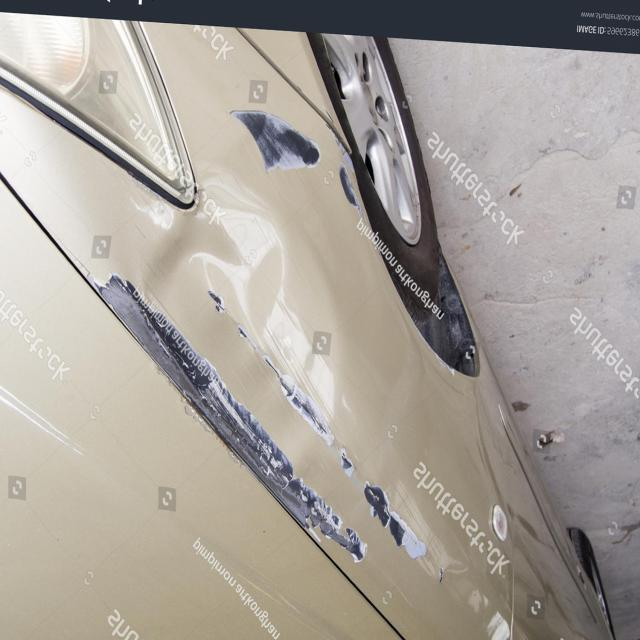scratch: (82, 265, 432, 574), (228, 96, 366, 215)
